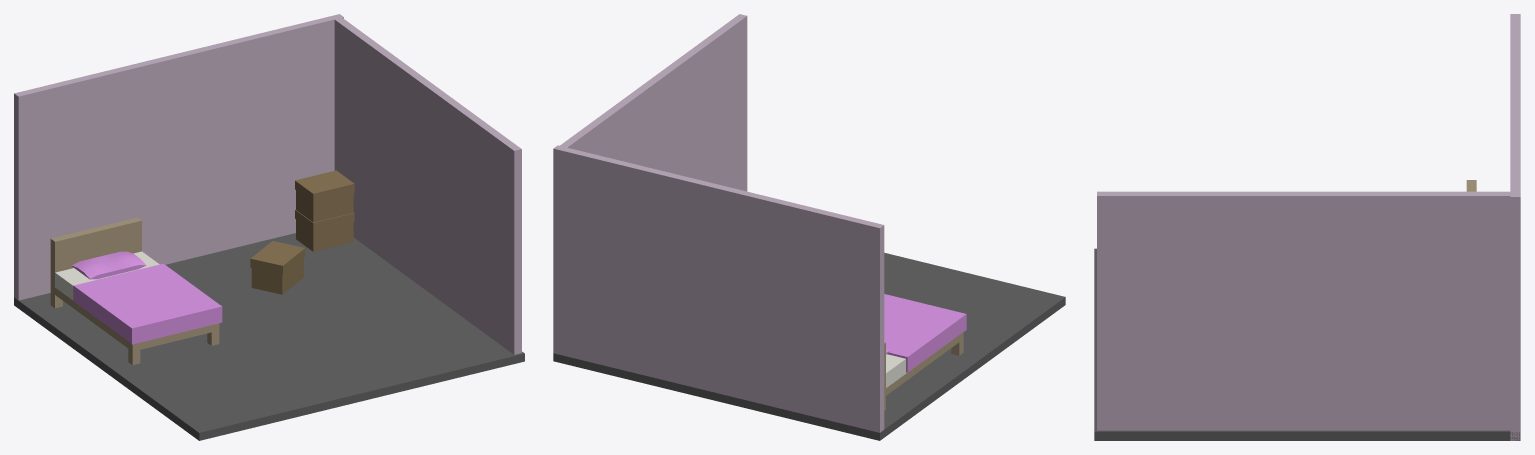
Rendered from jordans-bedroom-arkit-opt2.dae.
The picture shows the model from 3 angles, left to right: view 1: azimuth 30°, elevation 25°; view 2: azimuth 150°, elevation 25°; view 3: azimuth 270°, elevation 25°; orthographic projection. The views are drawn at different scales.
Parts seen in each view (by area): view 1: Bedroom; view 2: Bedroom; view 3: Bedroom.
Part boxes in pixels (x1,y1,x2,y2): Bedroom: (14, 14, 524, 440); Bedroom: (553, 14, 1065, 440); Bedroom: (1094, 14, 1520, 440).
Bounding box in the file's own units: 94.72 × 58.94 × 93.31.
